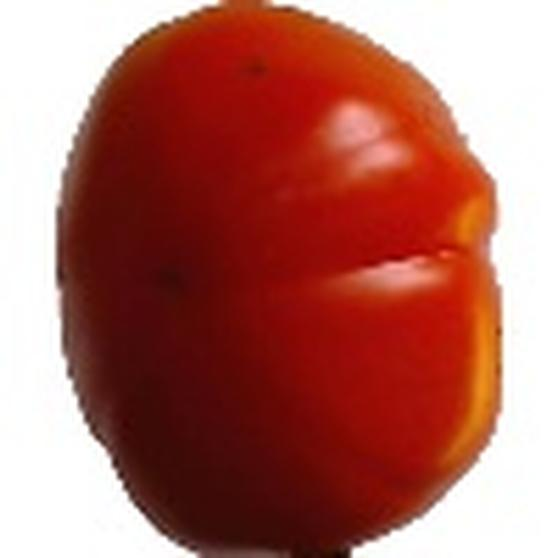tomato: (54, 1, 515, 557)
